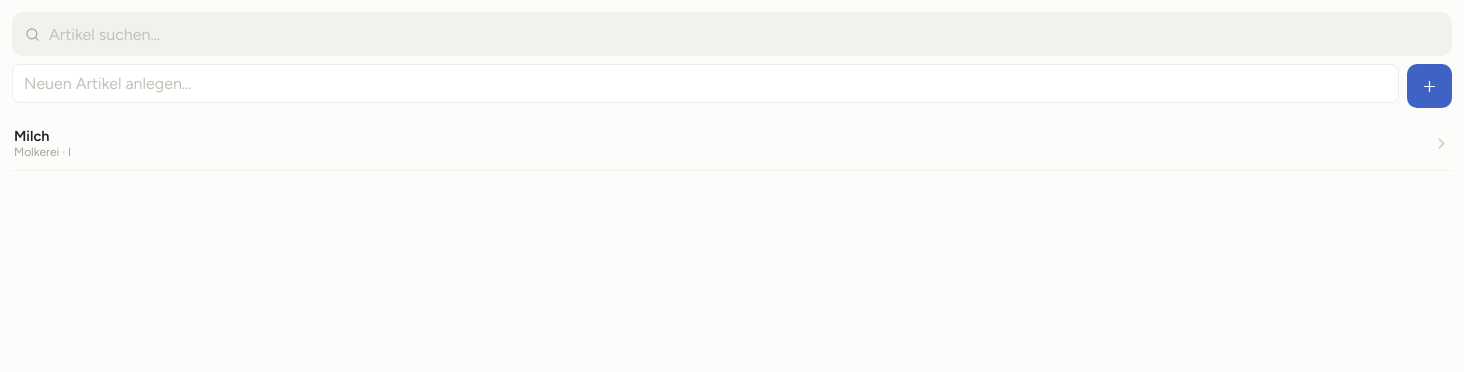
Test: CatalogBrowser › forwards the project's recipe wording into the edit panel
Click the button "Milch Molkerei · l": (32, 136) [12,116,1452,171]
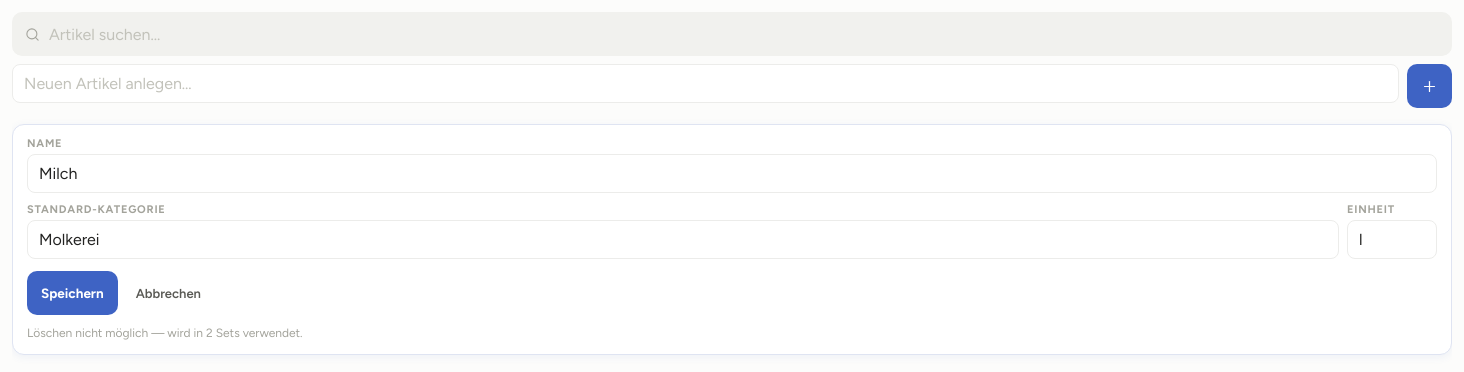
Check: the text "Löschen nicht möglich — wird in 2 Sets verwendet." is shown, box [27,326,302,340]
